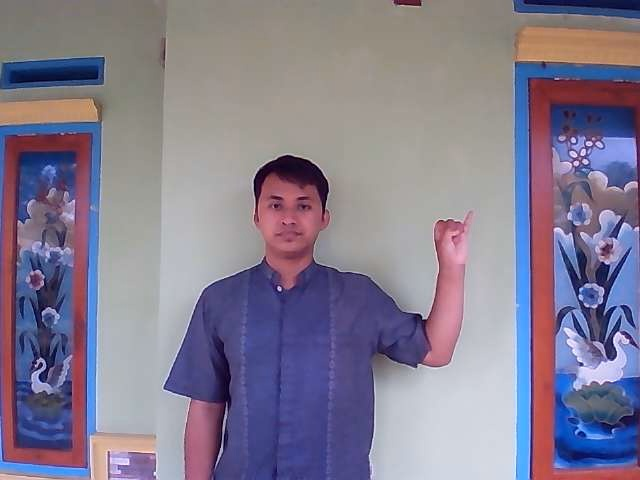I: (428, 204, 474, 277)
